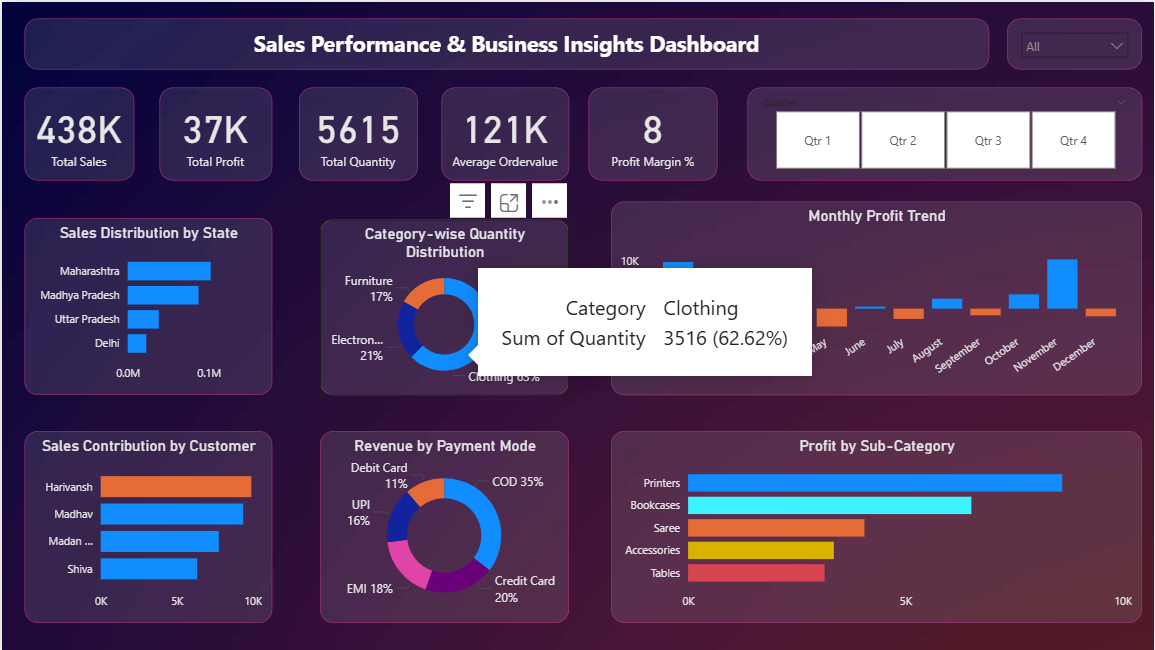

Layout of this report page (visuals, bound fields, positions):
{"tool":"powerbi","page":{"name":"Page 1","canvas":[1280,720],"ordinal":0},"visuals":[{"type":"textbox","box":[25,18.3,1071.7,56.7],"z":0},{"type":"columnChart","title":"Monthly Profit Trend","fields":{"Category":["Orders.Order Date.Variation.Date Hierarchy.Month"],"Y":["Sum(Details.Profit)"]},"box":[676.7,221.7,590,215],"z":1000},{"type":"barChart","title":"Profit by Sub-Category","fields":{"Category":["Details.Sub-Category"],"Y":["Sum(Details.Profit)"]},"box":[676.7,476.7,590,213.3],"z":2000},{"type":"donutChart","title":"Category-wise Quantity Distribution","fields":{"Category":["Details.Category"],"Y":["Sum(Details.Quantity)"]},"box":[353.3,241.7,276.7,195],"z":3000},{"type":"donutChart","title":"Revenue by Payment Mode","fields":{"Category":["Details.PaymentMode"],"Y":["Sum(Details.Amount)"]},"box":[353.3,476.7,276.7,213.3],"z":4000},{"type":"card","fields":{"Values":["Sum(Details.Profit)"]},"box":[175,95,125,103.3],"z":5000},{"type":"card","fields":{"Values":["Sum(Details.Quantity)"]},"box":[330,95,131.7,103.3],"z":6000},{"type":"card","fields":{"Values":["Sum(Details.Aov)"]},"box":[488.3,95,141.7,103.3],"z":7000},{"type":"barChart","title":"Sales Distribution by State","fields":{"Category":["Orders.State"],"Y":["Sum(Details.Amount)"]},"box":[25,240,275,196.7],"z":8000},{"type":"clusteredBarChart","title":"Sales Contribution by Customer","fields":{"Category":["Orders.CustomerName"],"Y":["Sum(Details.Amount)"]},"box":[25,476.7,275,213.3],"z":9000},{"type":"card","fields":{"Values":["Sum(Details.Amount)"]},"box":[25,95,121.7,103.3],"z":10000},{"type":"slicer","fields":{"Values":["Orders.Order Date.Variation.Date Hierarchy.Quarter"]},"box":[828.3,95,438.3,103.3],"z":11000},{"type":"card","fields":{"Values":["key measures.Profit Margin %"]},"box":[651.7,95,143.3,103.3],"z":12000},{"type":"slicer","fields":{"Values":["Orders.State"]},"box":[1116.7,18.3,150,56.7],"z":12001}]}

Visuals, with their boxes in screenshot pixels (x1, y1, x2, y2), scaled from the page's 1280x720 canvas onto the 1155x650 screenshot:
textbox: box(23, 17, 990, 68)
"Monthly Profit Trend" columnChart: box(611, 200, 1143, 394)
"Profit by Sub-Category" barChart: box(611, 430, 1143, 623)
"Category-wise Quantity Distribution" donutChart: box(319, 218, 568, 394)
"Revenue by Payment Mode" donutChart: box(319, 430, 568, 623)
card - Sum(Details.Profit): box(158, 86, 271, 179)
card - Sum(Details.Quantity): box(298, 86, 417, 179)
card - Sum(Details.Aov): box(441, 86, 568, 179)
"Sales Distribution by State" barChart: box(23, 217, 271, 394)
"Sales Contribution by Customer" clusteredBarChart: box(23, 430, 271, 623)
card - Sum(Details.Amount): box(23, 86, 132, 179)
slicer - Orders.Order Date.Variation.Date Hierarchy.Quarter: box(747, 86, 1143, 179)
card - key measures.Profit Margin %: box(588, 86, 717, 179)
slicer - Orders.State: box(1008, 17, 1143, 68)
